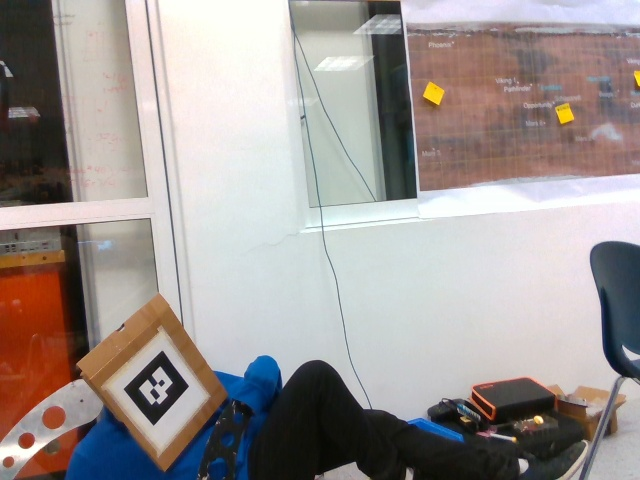ar3: (121, 348, 200, 427)
